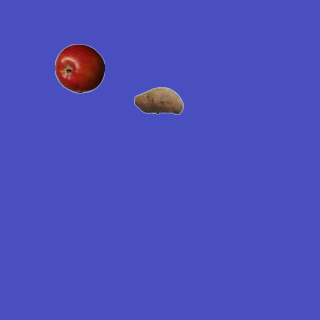Apple Braeburn: (54, 43, 104, 93)
Potato Sweet: (133, 75, 183, 125)
